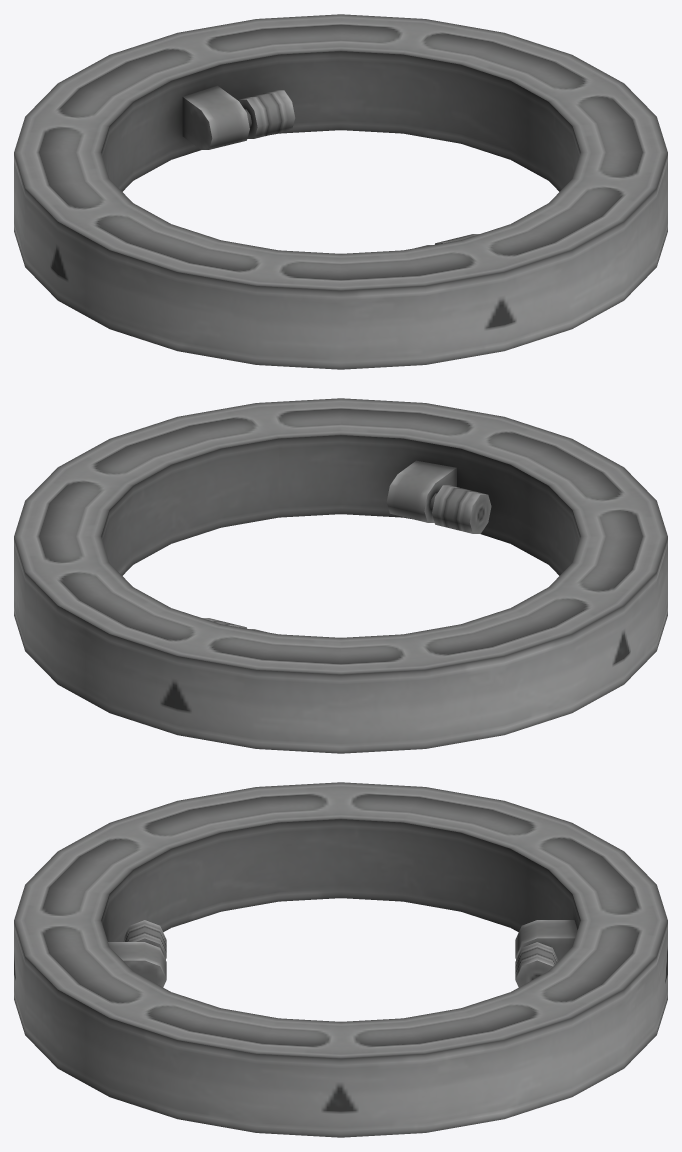
The model's file is castor_decoupler_s0p5_1.obj.
3 renders of one model, top to bottom at view 1: azimuth 30°, elevation 25°; view 2: azimuth 150°, elevation 25°; view 3: azimuth 270°, elevation 25°, orthographic.
Parts seen in each view (by area): view 1: castor_decoupler_s0p5_1; view 2: castor_decoupler_s0p5_1; view 3: castor_decoupler_s0p5_1.
Boxes of the visible parts, <box> form: castor_decoupler_s0p5_1: <box>14,14,667,369</box>; castor_decoupler_s0p5_1: <box>14,398,667,753</box>; castor_decoupler_s0p5_1: <box>14,782,667,1137</box>.
Size of the model in its own units: 0.9375 by 0.125 by 0.9375.
